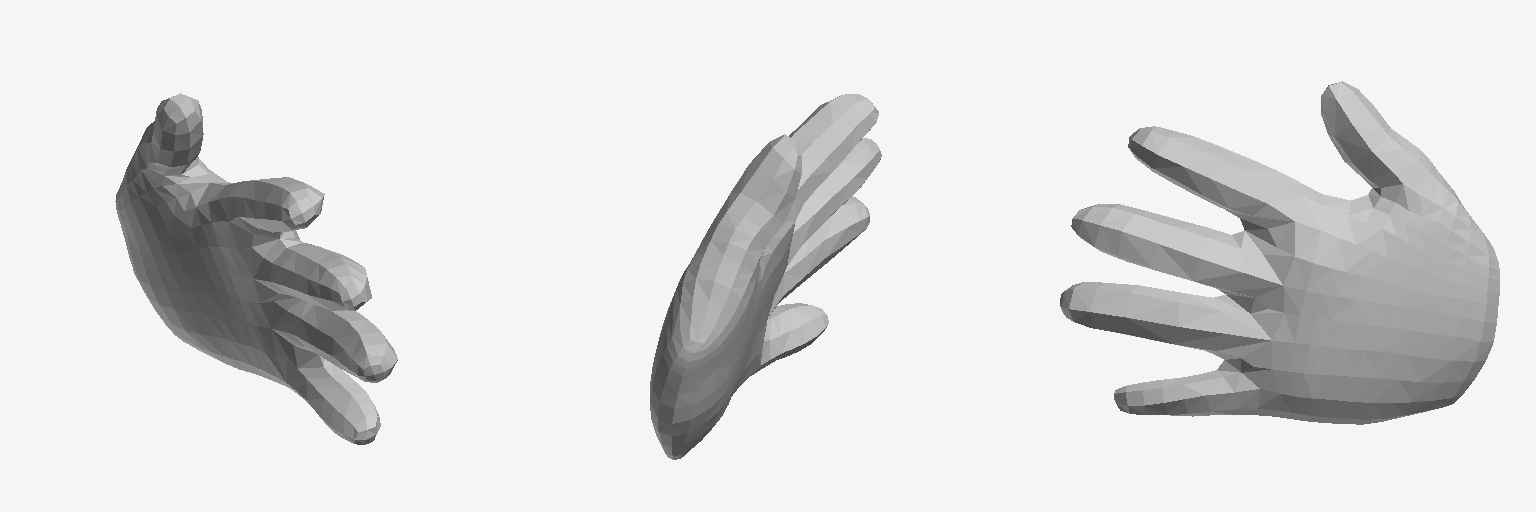
The model's file is hand-left.obj.
3 renders of one model, left to right at view 1: azimuth 30°, elevation 25°; view 2: azimuth 150°, elevation 25°; view 3: azimuth 270°, elevation 25°, orthographic.
Parts seen in each view (by area): view 1: object0; view 2: object0; view 3: object0.
Boxes of the visible parts, box(x1,y1,x2,y2) form: object0: box(115, 93, 397, 444); object0: box(650, 94, 881, 459); object0: box(1060, 81, 1499, 424).
Bounding box in the file's own units: 0.0531 × 0.121 × 0.1595.